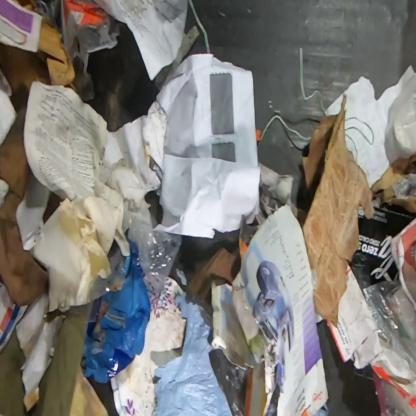cardboard: (301, 93, 375, 326), (0, 302, 91, 415), (0, 102, 48, 306), (0, 15, 76, 116)
rigid_plastic: (29, 0, 126, 103)
soft_plastic: (154, 292, 247, 416), (80, 235, 152, 385), (363, 279, 415, 415), (128, 211, 182, 302)
